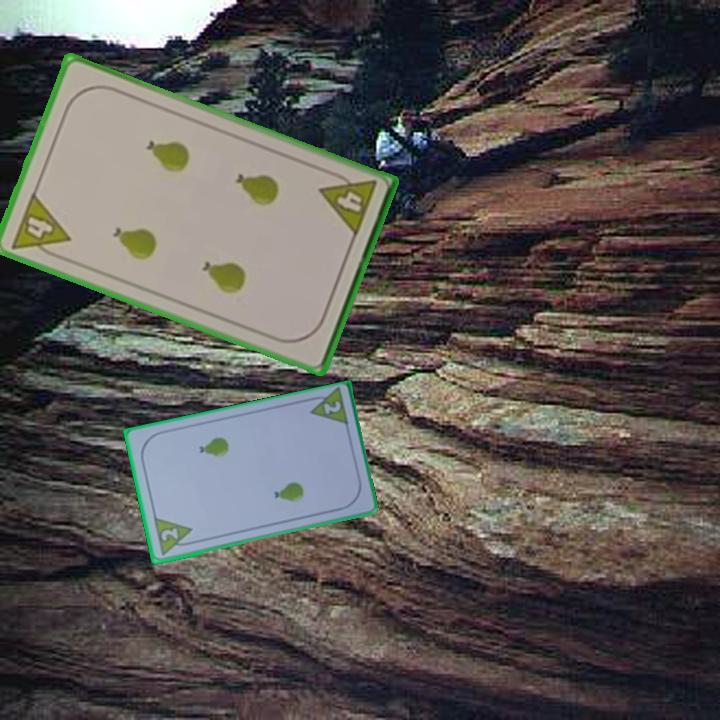2p: (150, 514, 197, 559), (320, 397, 344, 417)
4p: (7, 189, 73, 264), (316, 167, 380, 240)
